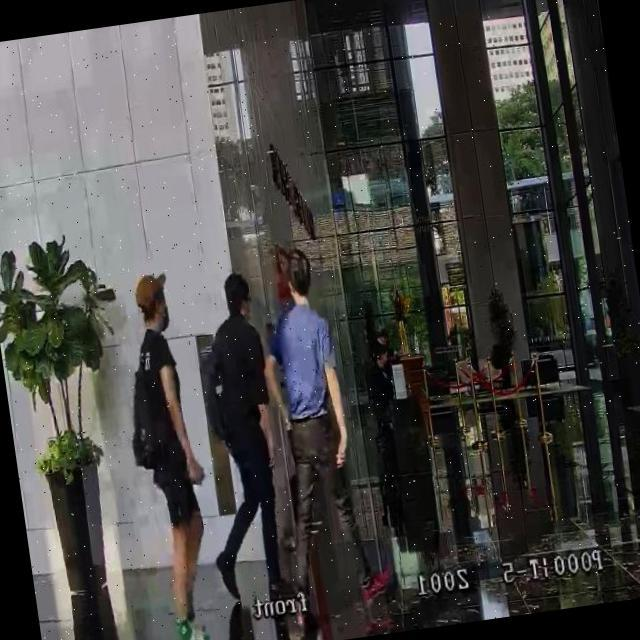person: (247, 245, 376, 626), (176, 270, 302, 612), (120, 271, 229, 640), (368, 347, 399, 413), (366, 324, 392, 356)
